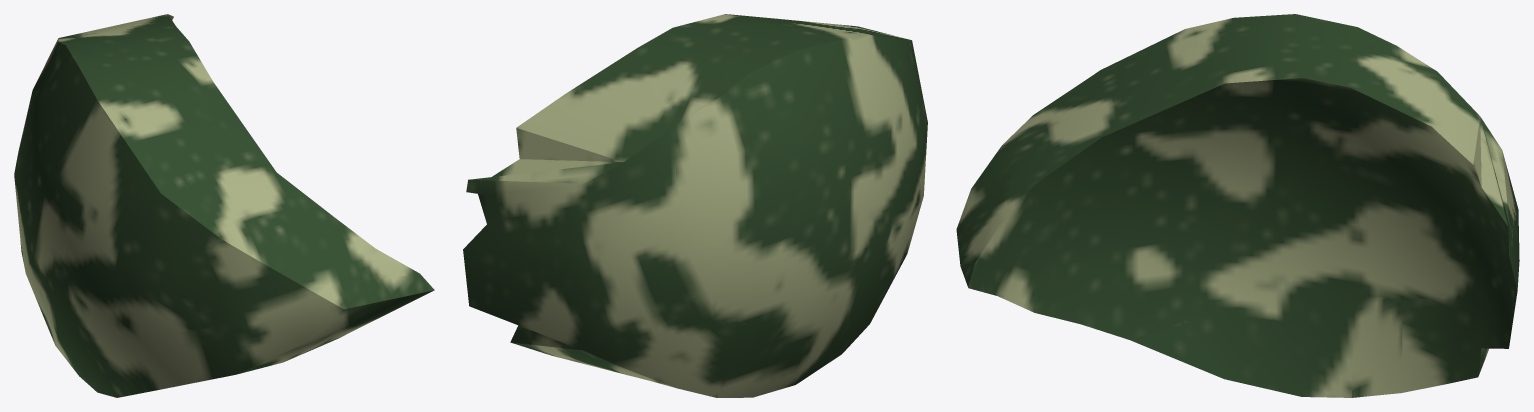
Rendered from link_body_22.obj.
3 views of the same model, side by side, from view 1: azimuth 30°, elevation 25°; view 2: azimuth 150°, elevation 25°; view 3: azimuth 270°, elevation 25° (orthographic). The views are drawn at different scales.
Visible parts, largest first — view 1: link_body_22; view 2: link_body_22; view 3: link_body_22.
Part boxes in pixels (x1,y1,x2,y2): link_body_22: (14,14,434,397); link_body_22: (463,14,927,397); link_body_22: (956,14,1519,397).
Bounding box in the file's own units: 7.31 × 8.45 × 13.06.
